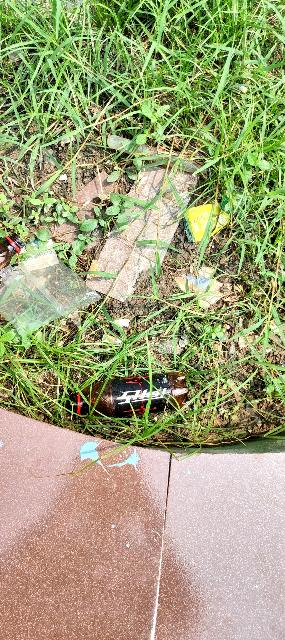bottle: (66, 370, 202, 426)
